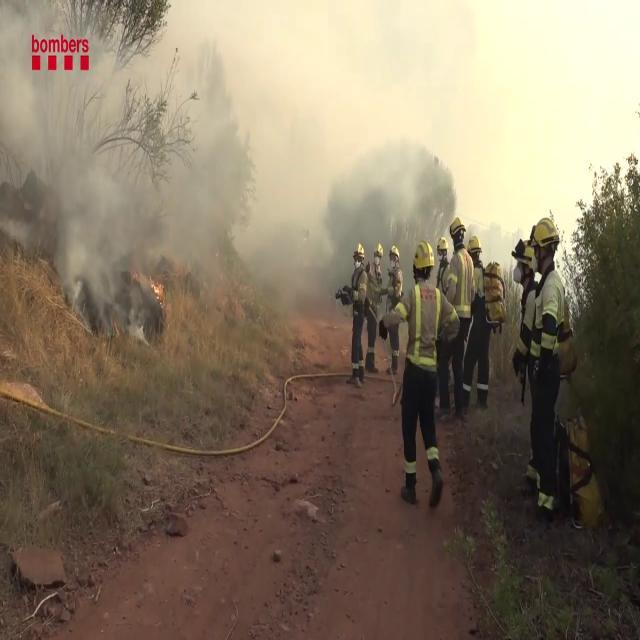Smoke: (3, 0, 526, 308)
